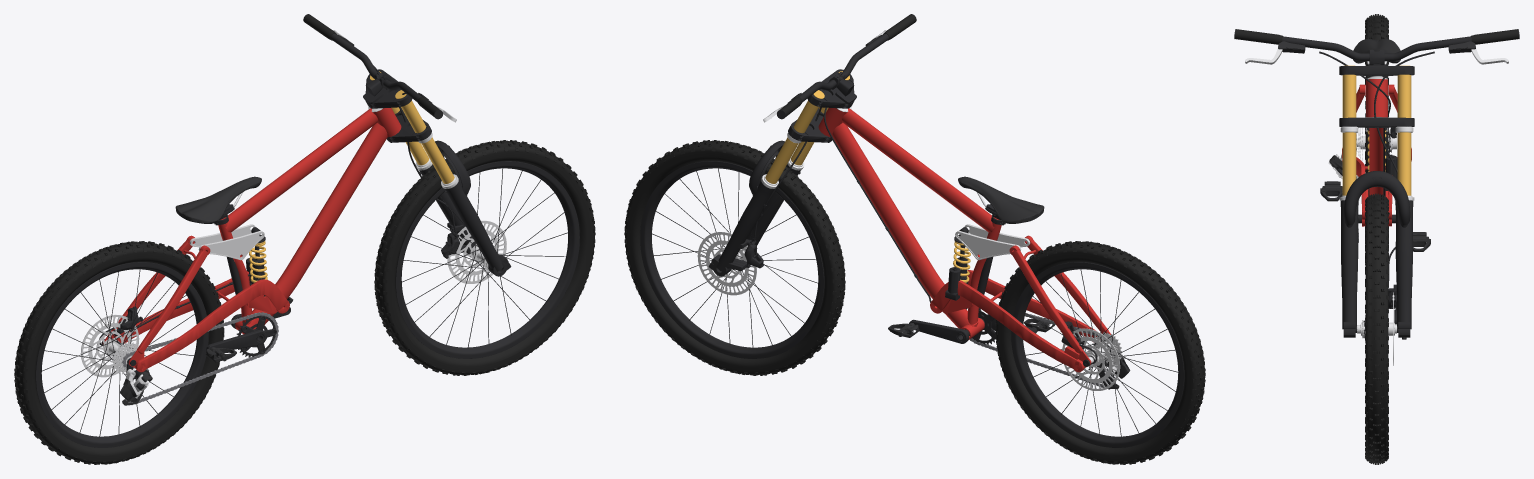
3 renders of one model, left to right at view 1: azimuth 30°, elevation 25°; view 2: azimuth 150°, elevation 25°; view 3: azimuth 270°, elevation 25°, orthographic. The views are drawn at different scales.
Visible parts, largest first — view 1: wheel_front, wheel_rear, frame, steer, swing, fork_lower, seatstay, crank, rocker; view 2: wheel_front, wheel_rear, frame, steer, fork_lower, swing, seatstay, crank, rocker; view 3: steer, wheel_front, fork_lower, frame, wheel_rear, crank, seatstay, swing.
Part boxes in pixels (left/top/right/bottom): wheel_front: left=374, top=140, right=595, bottom=375; wheel_rear: left=14, top=241, right=224, bottom=464; frame: left=99, top=92, right=406, bottom=345; steer: left=303, top=14, right=456, bottom=230; swing: left=122, top=271, right=289, bottom=404; fork_lower: left=415, top=140, right=511, bottom=276; seatstay: left=101, top=235, right=210, bottom=405; crank: left=205, top=297, right=293, bottom=362; rocker: left=189, top=224, right=264, bottom=260; wheel_front: left=624, top=140, right=845, bottom=375; wheel_rear: left=995, top=241, right=1205, bottom=464; frame: left=818, top=107, right=1097, bottom=364; steer: left=753, top=14, right=916, bottom=238; fork_lower: left=708, top=140, right=804, bottom=276; swing: left=930, top=270, right=1115, bottom=389; seatstay: left=1009, top=235, right=1130, bottom=389; crank: left=888, top=308, right=1054, bottom=345; rocker: left=955, top=224, right=1030, bottom=260; steer: left=1234, top=29, right=1519, bottom=282; wheel_front: left=1361, top=193, right=1394, bottom=464; fork_lower: left=1339, top=171, right=1414, bottom=339; frame: left=1319, top=38, right=1400, bottom=226; wheel_rear: left=1356, top=14, right=1397, bottom=265; crank: left=1320, top=181, right=1430, bottom=251; seatstay: left=1329, top=84, right=1397, bottom=178; swing: left=1342, top=148, right=1411, bottom=242.
Size of the model in its own units: 1.98 by 1.11 by 0.787.
